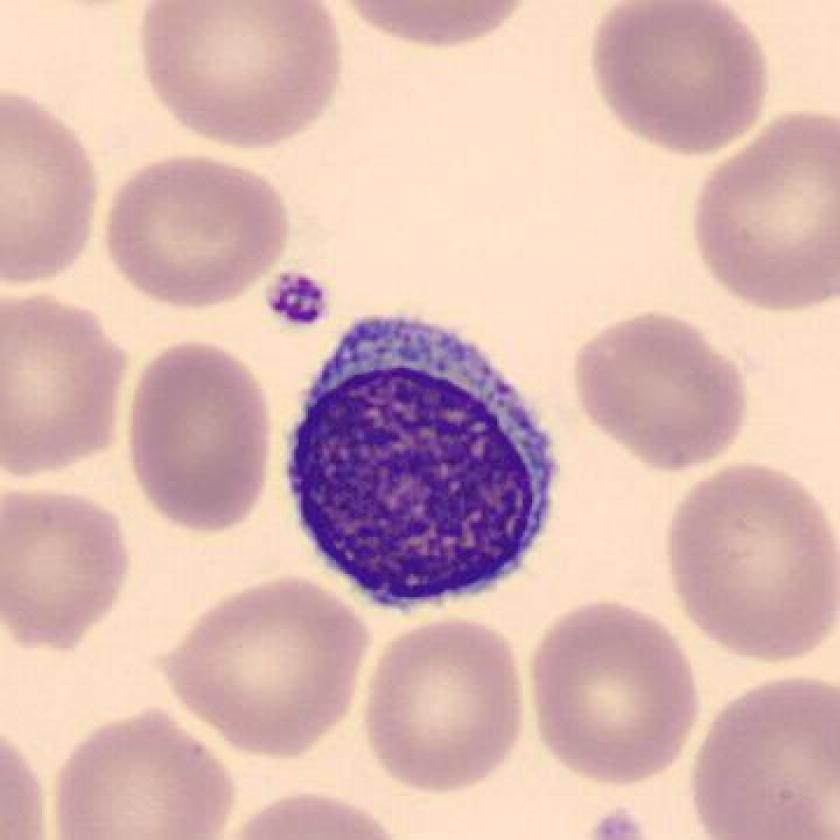lymphocyte: (267, 299, 575, 626)
